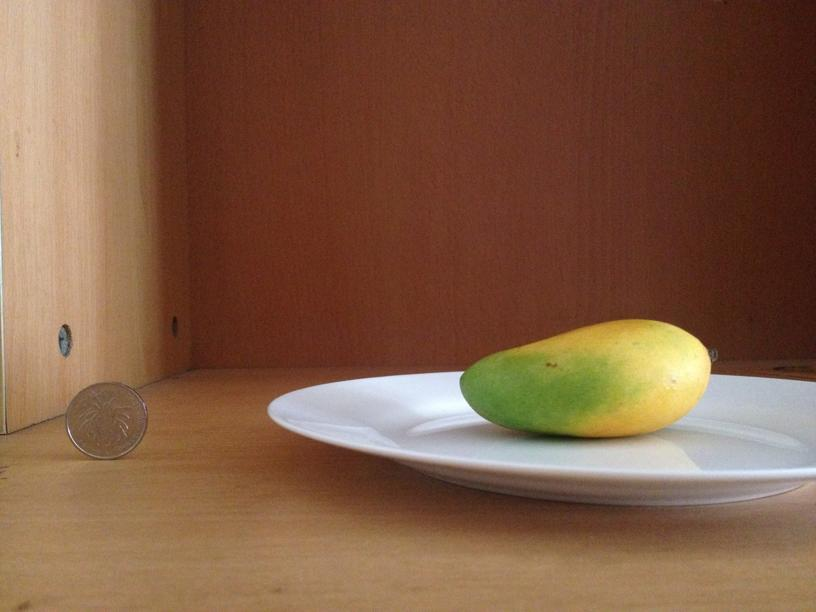coin: (64, 382, 147, 460)
mango: (463, 315, 712, 438)
